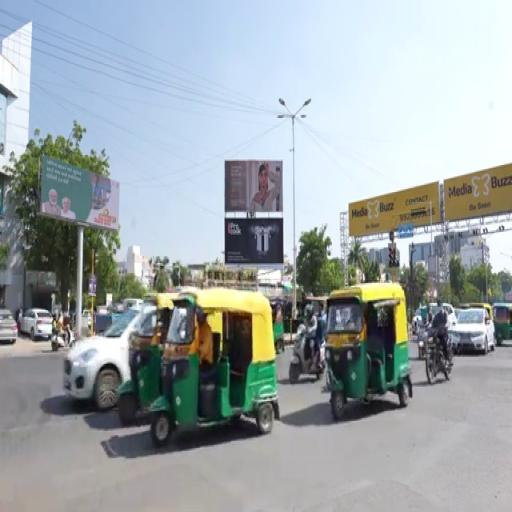Car: (64, 306, 155, 411), (449, 309, 495, 354), (20, 309, 52, 341), (0, 309, 17, 344), (442, 303, 457, 325), (412, 309, 423, 334)
